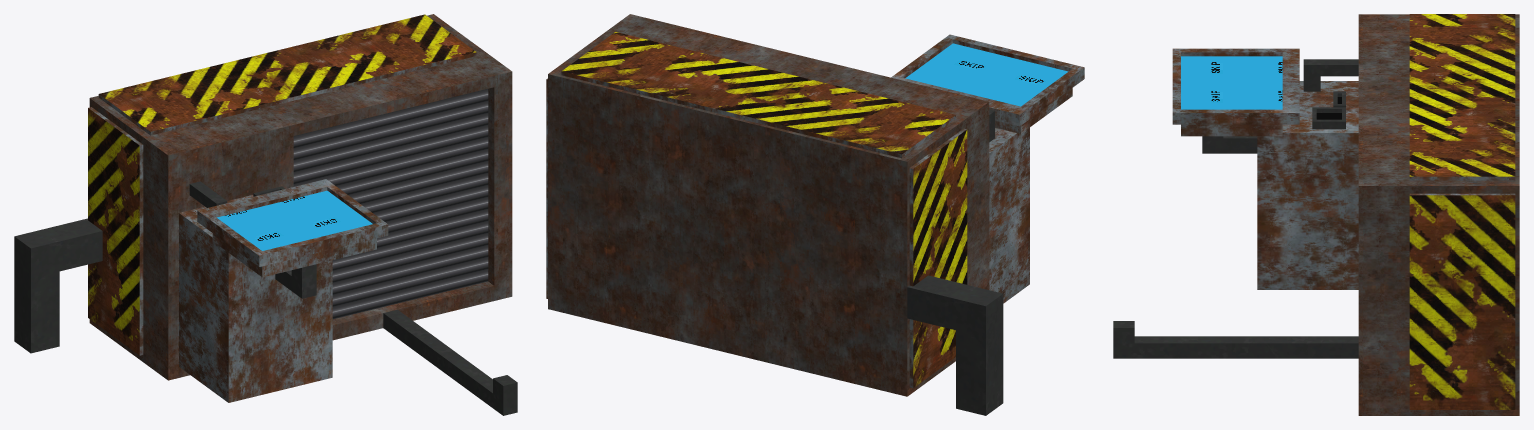
File: scale_machine.vmf.obj
The picture shows the model from 3 angles, left to right: view 1: azimuth 30°, elevation 25°; view 2: azimuth 150°, elevation 25°; view 3: azimuth 270°, elevation 25°; orthographic projection. The views are drawn at different scales.
Parts seen in each view (by area): view 1: 15, 9, 21, 5, 17, 26, 16, 8, 18, 11, 19, 44 (+9 smaller); view 2: 15, 9, 5, 21, 26, 8, 7, 17, 18, 44, 28, 41 (+1 smaller); view 3: 10, 15, 9, 21, 26, 11, 22, 16, 27, 18, 28, 4 (+6 smaller).
Boxes of the visible parts, x1=… form: 15: x1=89, y1=14, x2=505, y2=375; 9: x1=98, y1=14, x2=476, y2=135; 21: x1=189, y1=218, x2=332, y2=402; 5: x1=88, y1=107, x2=143, y2=355; 17: x1=162, y1=120, x2=293, y2=380; 26: x1=212, y1=190, x2=376, y2=277; 16: x1=488, y1=67, x2=512, y2=300; 8: x1=14, y1=229, x2=59, y2=353; 18: x1=288, y1=71, x2=494, y2=135; 11: x1=383, y1=309, x2=517, y2=415; 19: x1=332, y1=281, x2=494, y2=340; 44: x1=255, y1=221, x2=388, y2=266; 15: x1=548, y1=19, x2=982, y2=396; 9: x1=561, y1=32, x2=955, y2=158; 5: x1=909, y1=128, x2=967, y2=387; 21: x1=989, y1=127, x2=1029, y2=303; 26: x1=905, y1=43, x2=1072, y2=133; 8: x1=956, y1=286, x2=1003, y2=415; 7: x1=907, y1=275, x2=972, y2=330; 17: x1=852, y1=69, x2=989, y2=289; 18: x1=643, y1=18, x2=857, y2=74; 44: x1=946, y1=34, x2=1084, y2=81; 28: x1=891, y1=75, x2=1028, y2=126; 41: x1=1021, y1=69, x2=1080, y2=119; 10: x1=1409, y1=193, x2=1515, y2=409; 15: x1=1371, y1=14, x2=1519, y2=415; 9: x1=1409, y1=14, x2=1515, y2=180; 21: x1=1257, y1=81, x2=1337, y2=289; 26: x1=1181, y1=56, x2=1282, y2=136; 11: x1=1113, y1=336, x2=1358, y2=358; 22: x1=1342, y1=81, x2=1358, y2=289; 16: x1=1358, y1=177, x2=1371, y2=415; 27: x1=1181, y1=109, x2=1282, y2=124; 18: x1=1358, y1=77, x2=1371, y2=176; 28: x1=1282, y1=48, x2=1299, y2=124; 4: x1=1303, y1=59, x2=1358, y2=76.
Size of the model in its own units: 118 by 61 by 96.
Materials: 8 (8 with a texture image).
